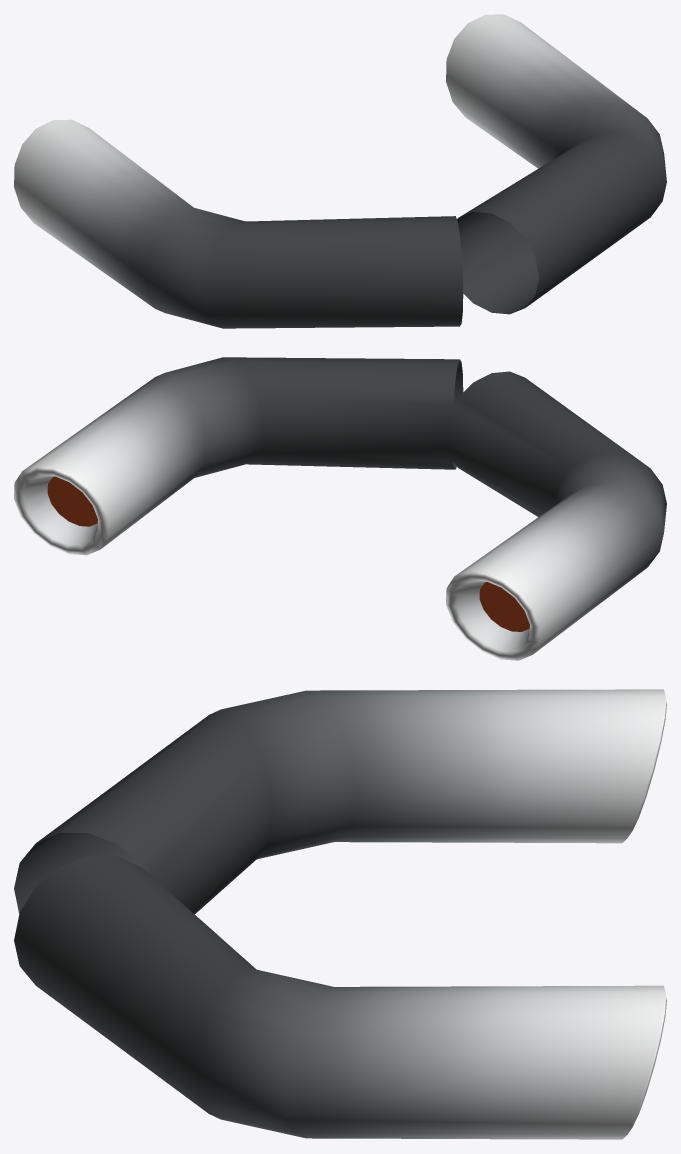
The model's file is Car_02_Pipe_Simple.fbx.
The picture shows the model from 3 angles, top to bottom: view 1: azimuth 30°, elevation 25°; view 2: azimuth 150°, elevation 25°; view 3: azimuth 270°, elevation 25°; orthographic projection. The views are drawn at different scales.
Visible parts, largest first — view 1: Car_02_Pipe_Simple; view 2: Car_02_Pipe_Simple; view 3: Car_02_Pipe_Simple.
Boxes of the visible parts, x1,y1,x2,y2 form: Car_02_Pipe_Simple: [14, 14, 666, 328]; Car_02_Pipe_Simple: [14, 357, 666, 660]; Car_02_Pipe_Simple: [14, 689, 666, 1139].
Size of the model in its own units: 106 by 80.62 by 19.02.
